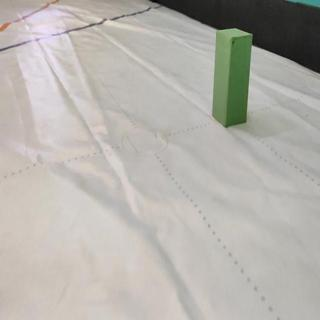greenbox: (211, 27, 254, 129)
